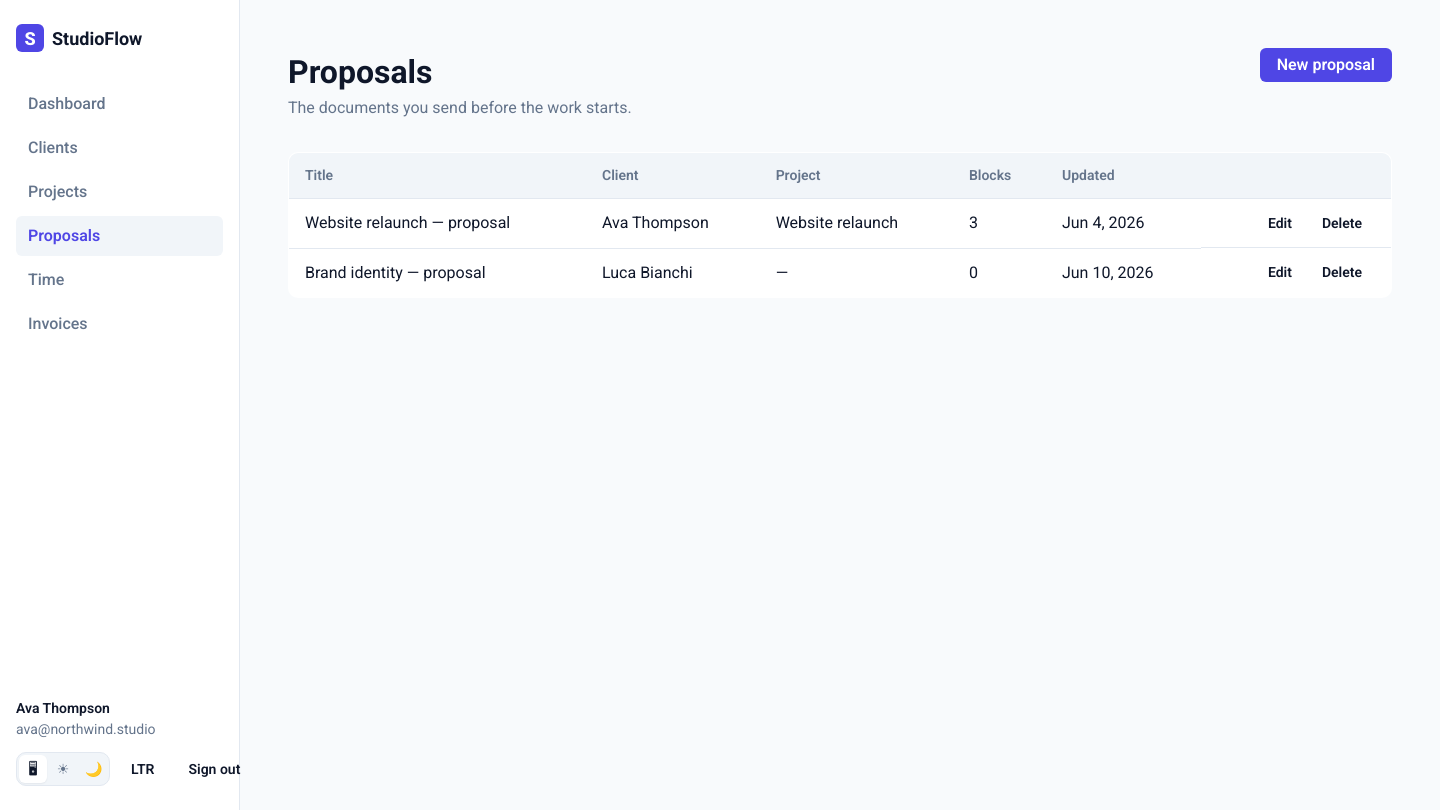
Test: ProposalsPage › offers only the chosen client’s projects
Expected: the heading "Proposals" is shown, [288,53,432,91]
Expected: the link "Website relaunch — proposal" is shown, [305,213,510,232]
Click the button "New proposal".
click(1326, 65)  # box [1260,48,1392,82]
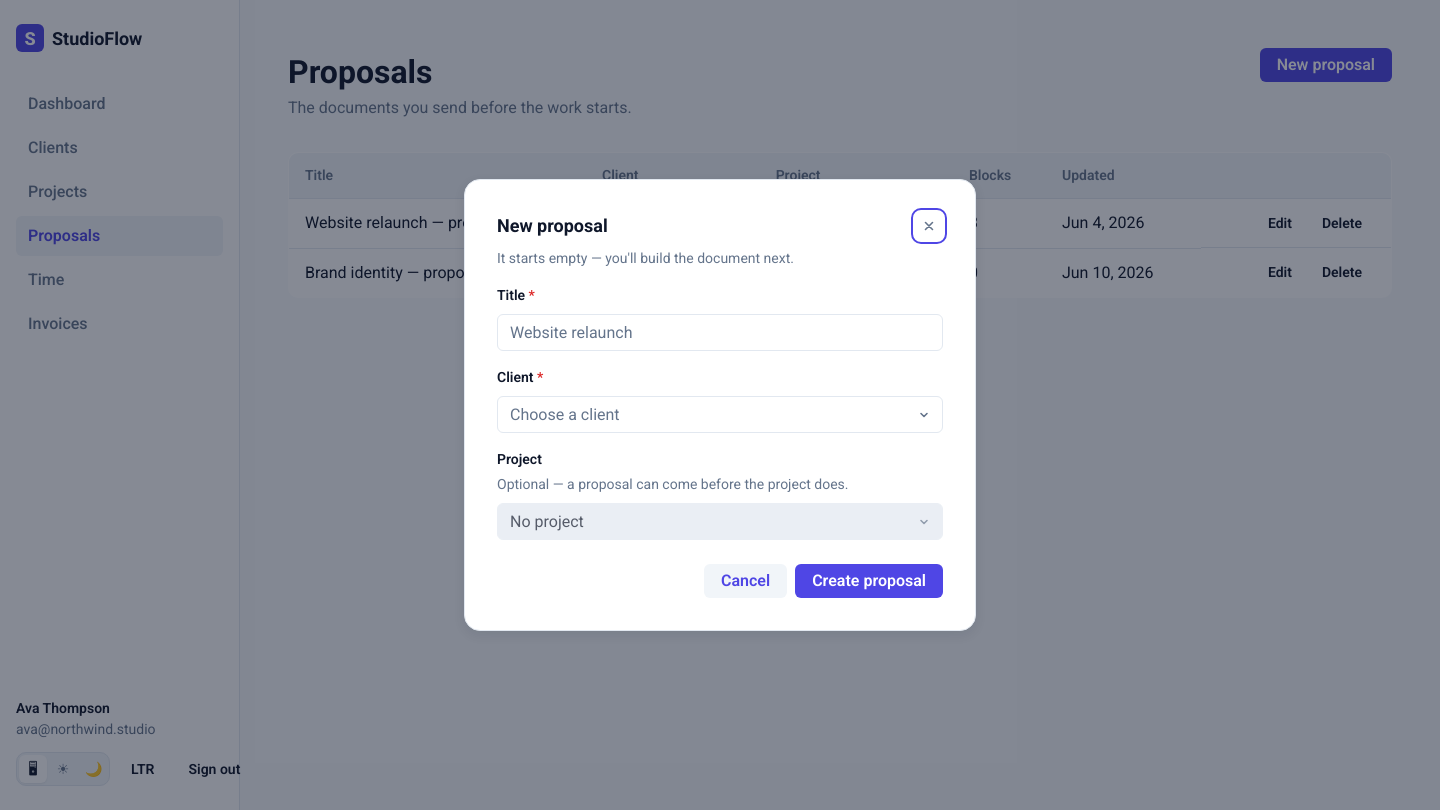
Click the dropdown labelled "client".
click(565, 414)  # box [497,396,943,433]
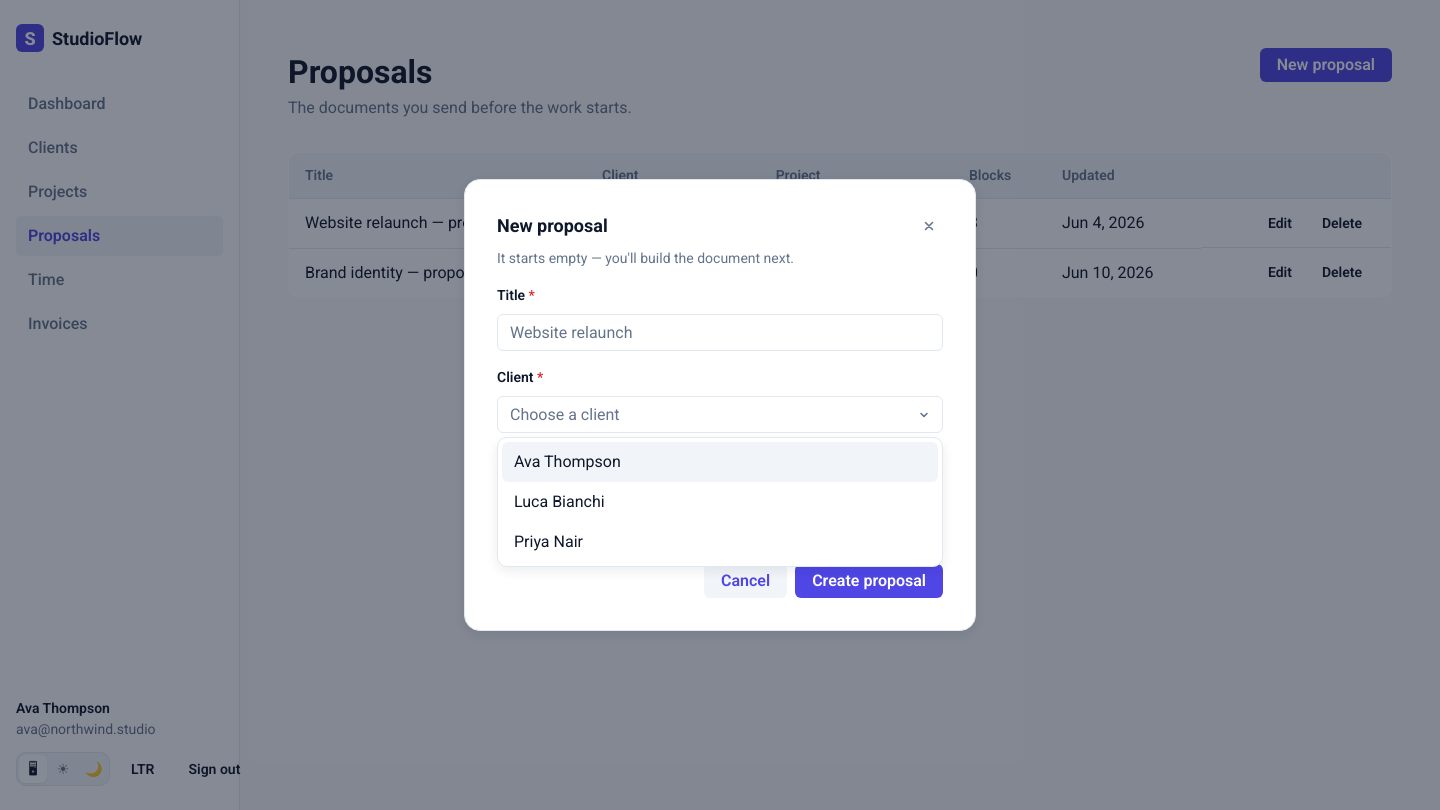
Click the option "Ava Thompson".
click(567, 462)  # box [502,442,938,482]
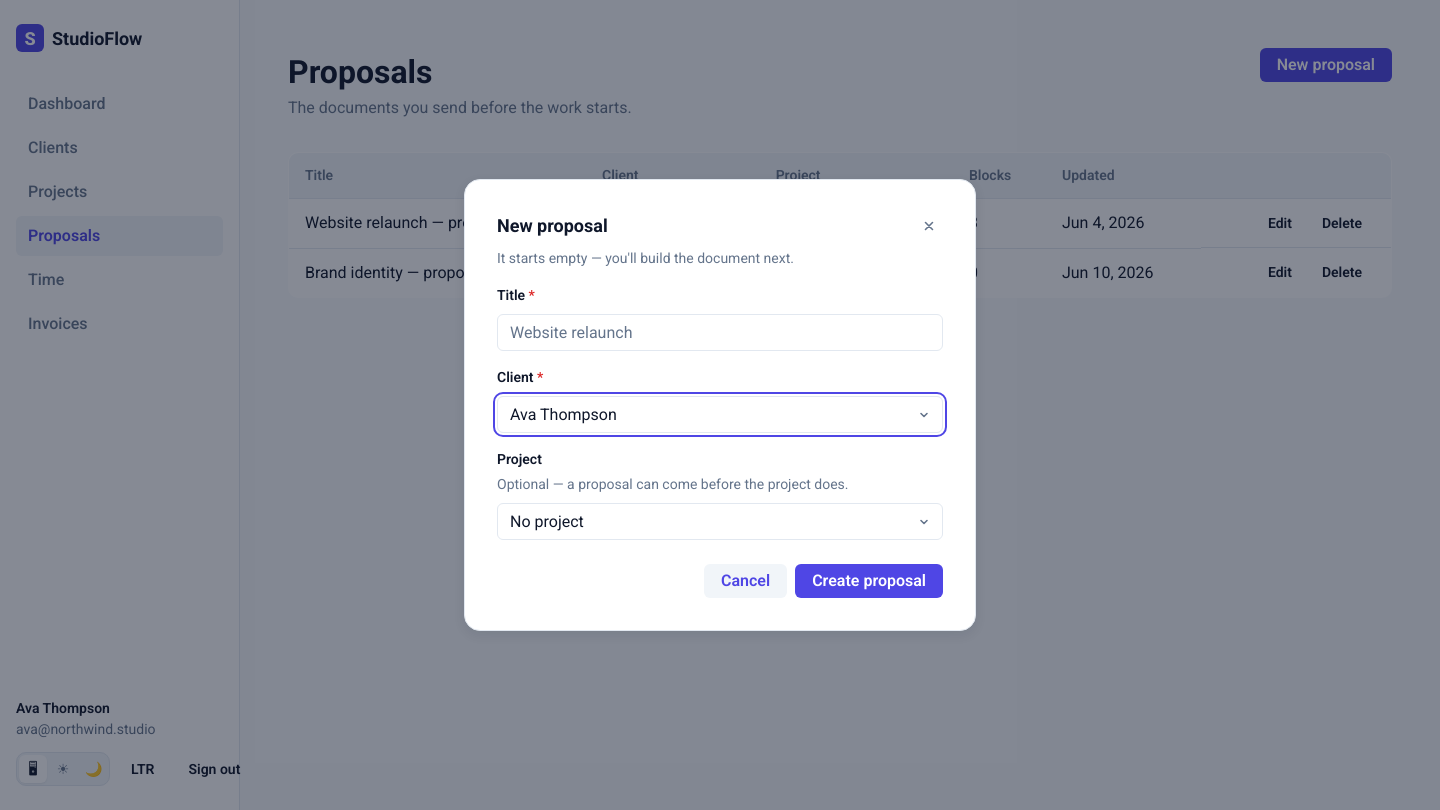
Click the dropdown labelled "project".
click(547, 522)  # box [497,503,943,540]
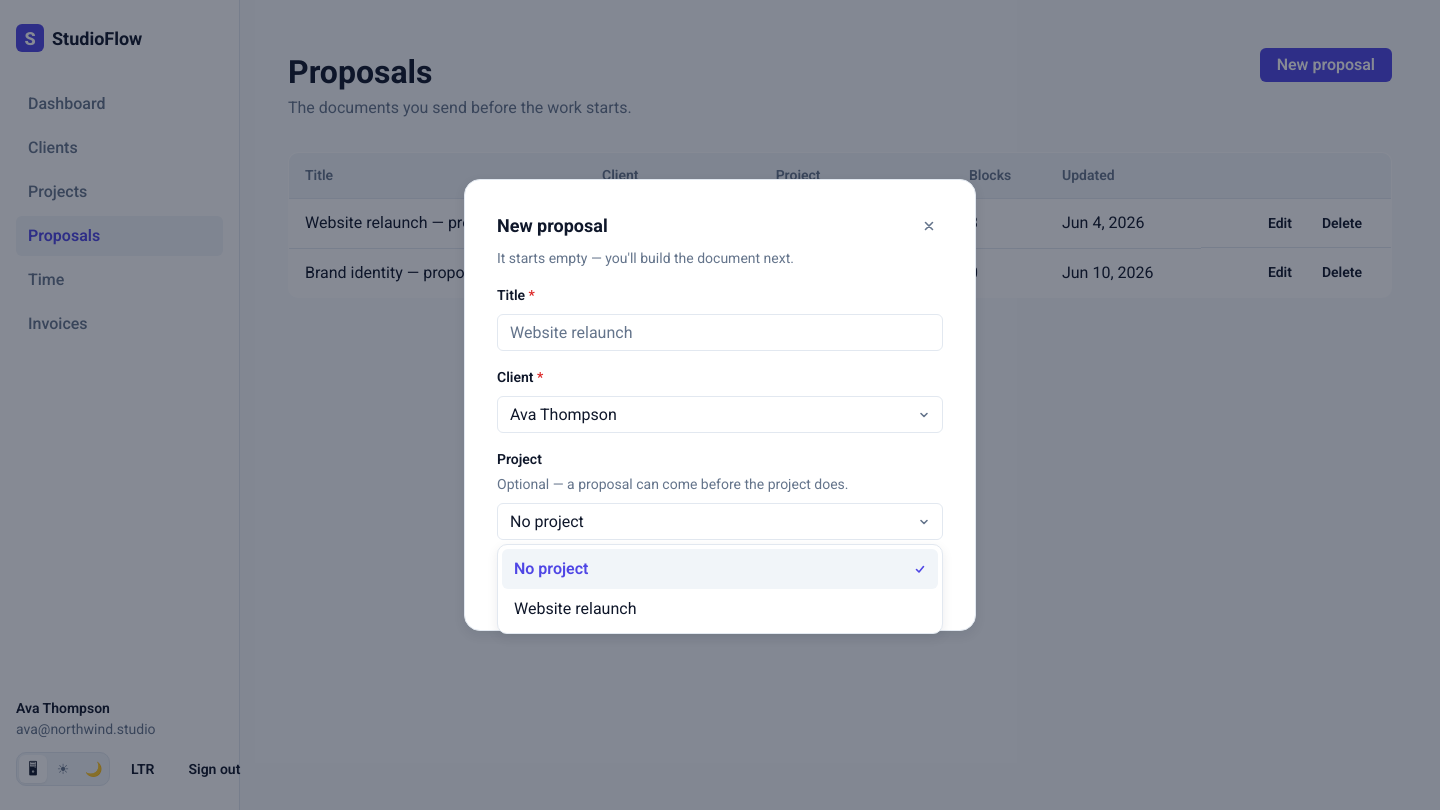
Now the option "Website relaunch" is shown, box [514,599,636,618]
